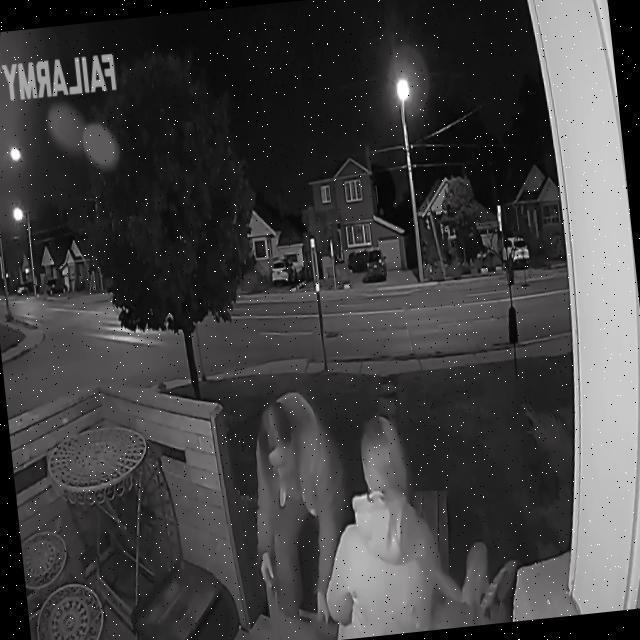person: (309, 406, 472, 640), (242, 388, 358, 610)
